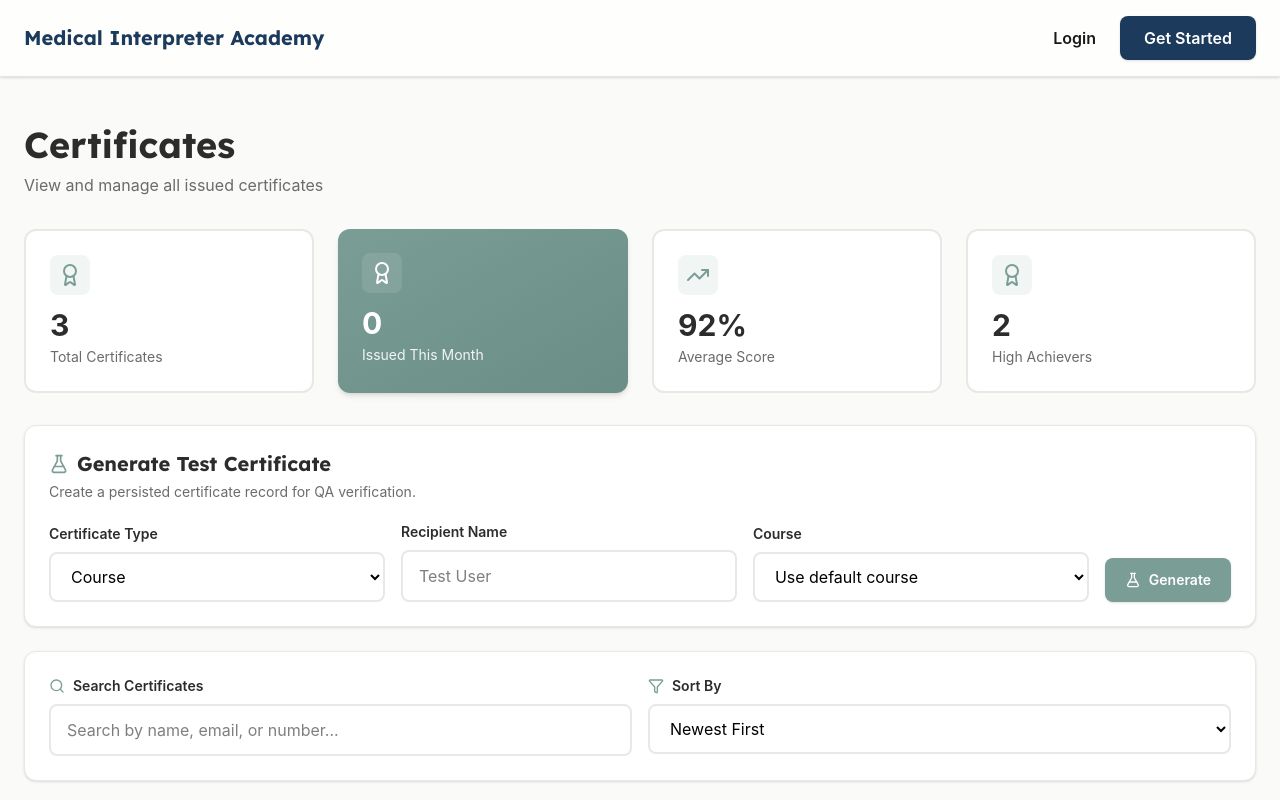
Test: AdminCertificates Page › Search Functionality › should show no results message when search has no matches
In the field with placeholder "Search by name, email, or number...": [340, 730] box [49,704,632,756], type "nonexistent"
(page scrolled)
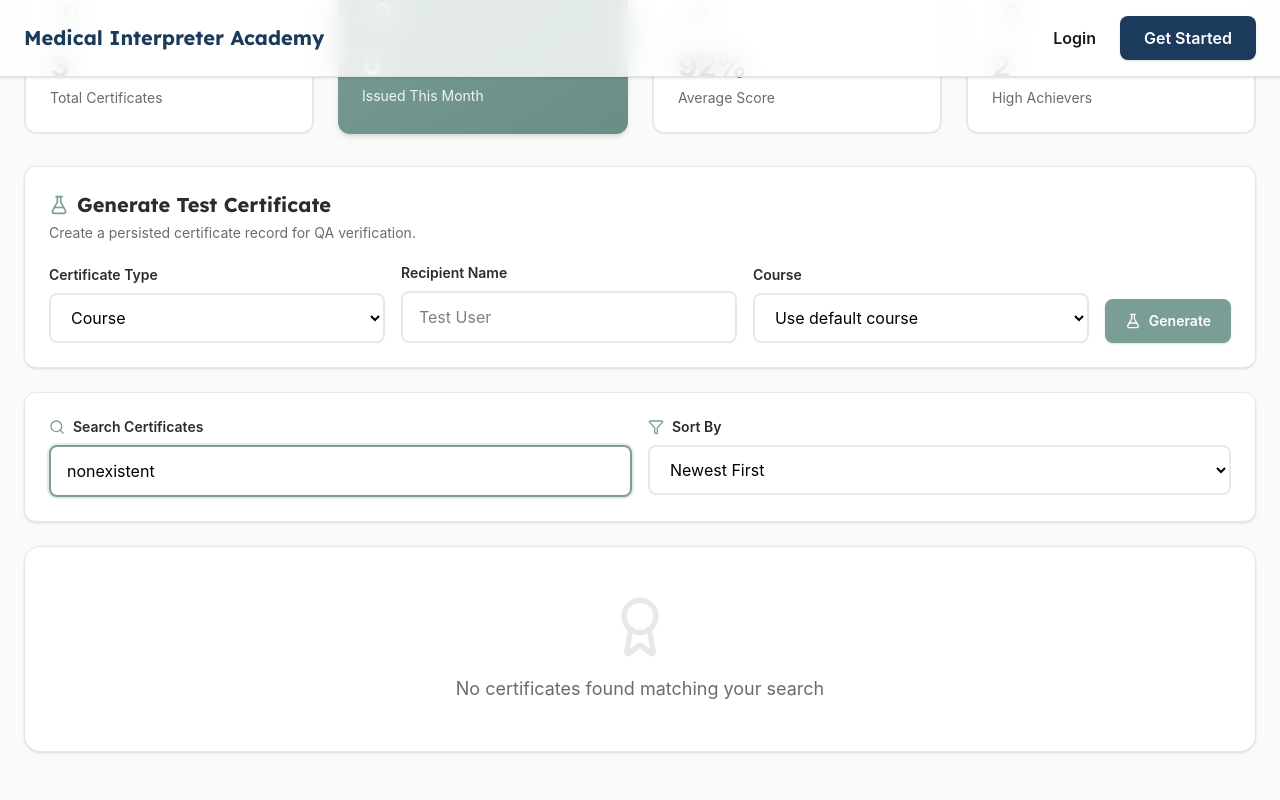
Result: the text "No certificates found matching your search" is shown at [456,678,824,699]
